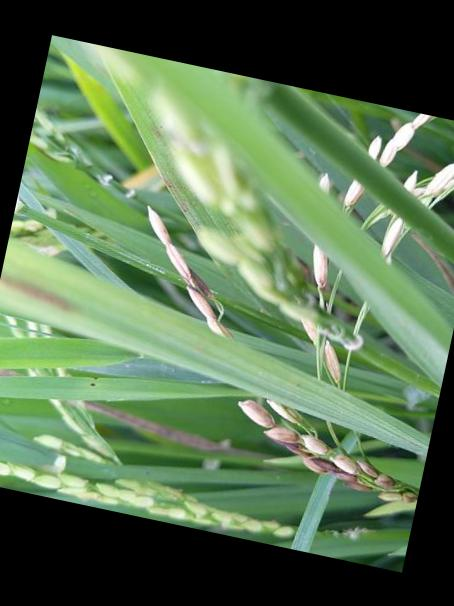Leaf Streak: (0, 274, 76, 310)
Panicle Blight: (240, 398, 419, 502), (150, 205, 233, 337), (304, 318, 352, 389), (308, 243, 328, 296), (268, 399, 302, 422)
